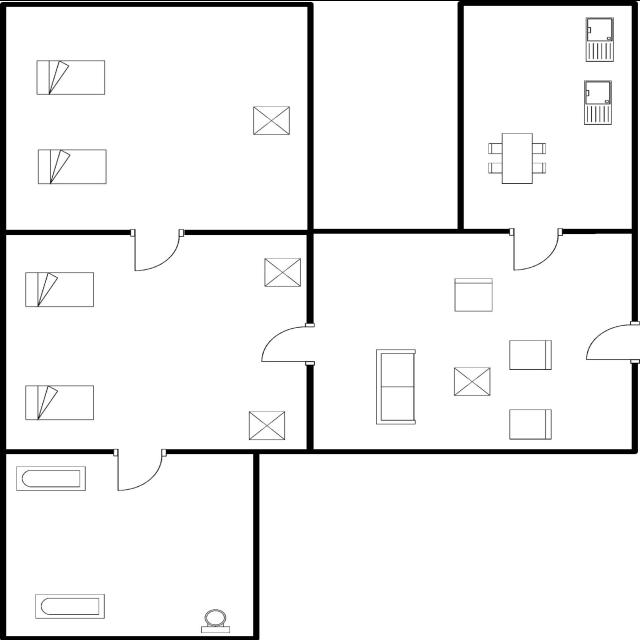bed: (20, 379, 100, 424), (31, 55, 110, 99), (20, 267, 100, 310), (33, 144, 110, 187)
coffee_table: (243, 407, 290, 443), (248, 101, 292, 139), (449, 364, 495, 399), (259, 255, 304, 290)
dining_table: (482, 128, 550, 188)
large_sink: (197, 607, 234, 635)
large_sofa: (369, 344, 421, 428)
sink: (578, 76, 618, 128), (580, 15, 616, 64)
small_sofa: (504, 406, 560, 442), (448, 274, 498, 314), (506, 334, 556, 372)
tub: (31, 589, 112, 622), (13, 461, 90, 494)
